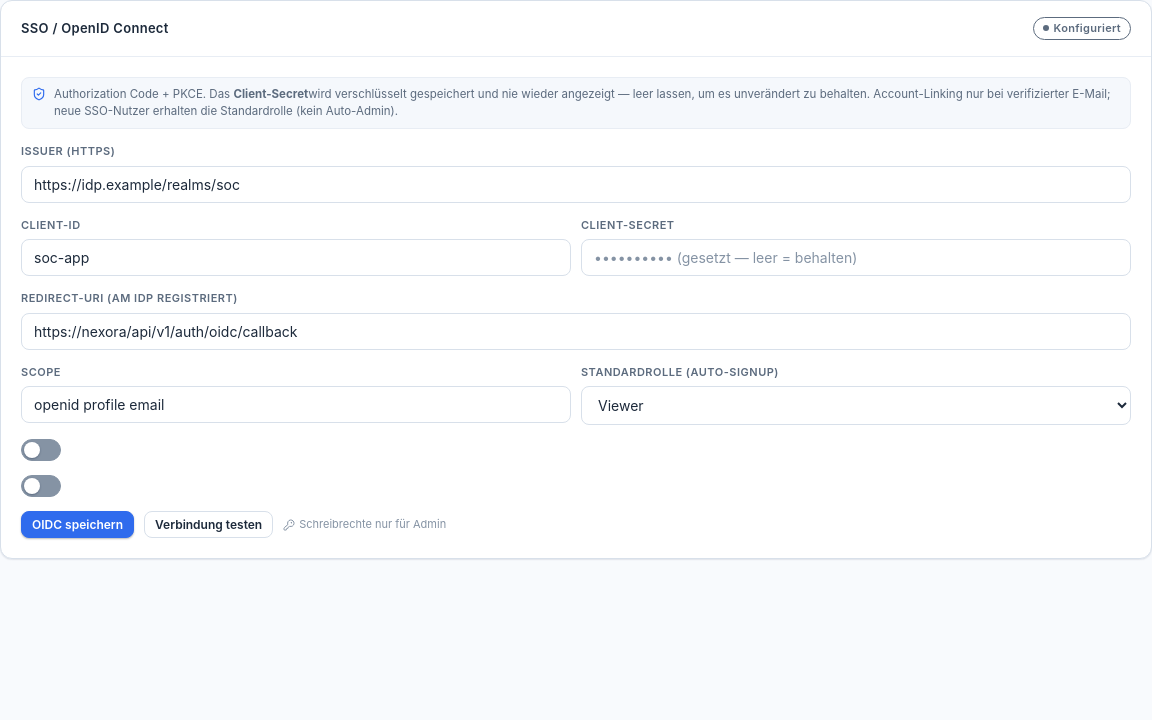
Scenario: OidcSettingsCard — Step-up-Reauth beim Speichern › „OIDC speichern" öffnet den Passwort-Dialog statt direkt zu speichern
Click the button "OIDC speichern". click: coordinates (78, 524)
box: 21,511 -> 134,538
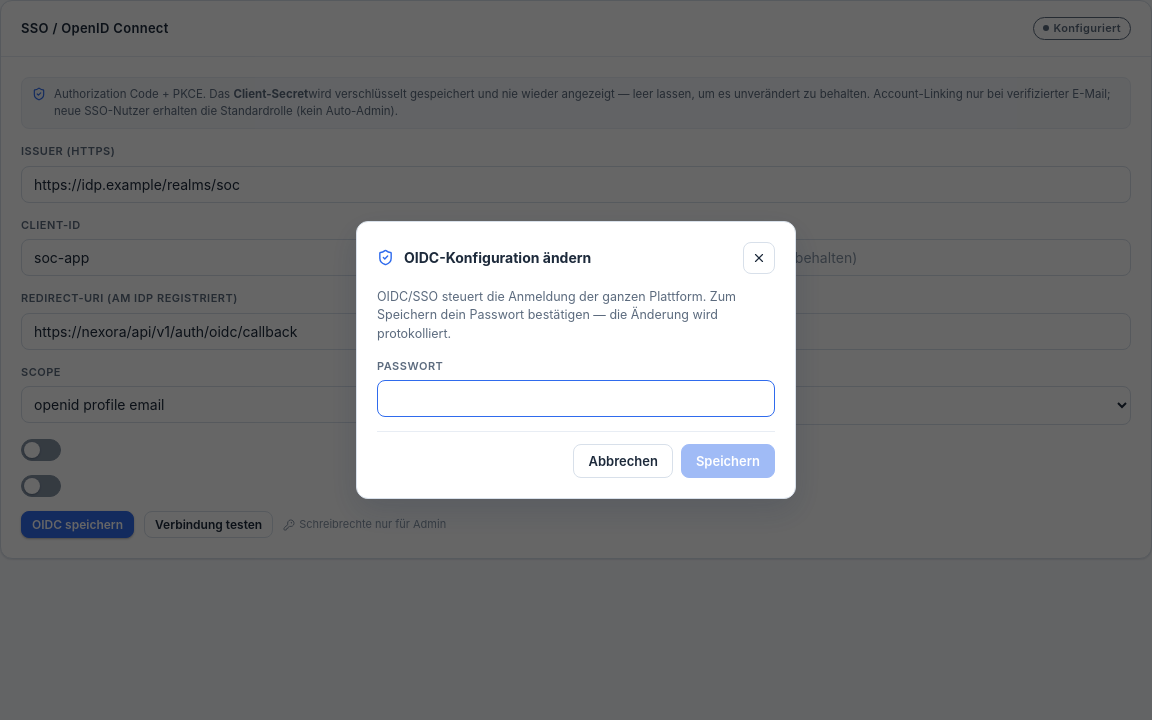
Expected: the text "OIDC-Konfiguration ändern" is shown, 404,247 -> 591,268
